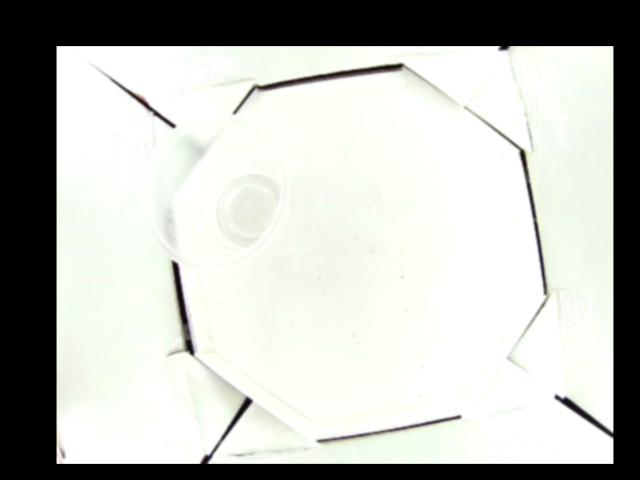Cup: (140, 111, 289, 268)
